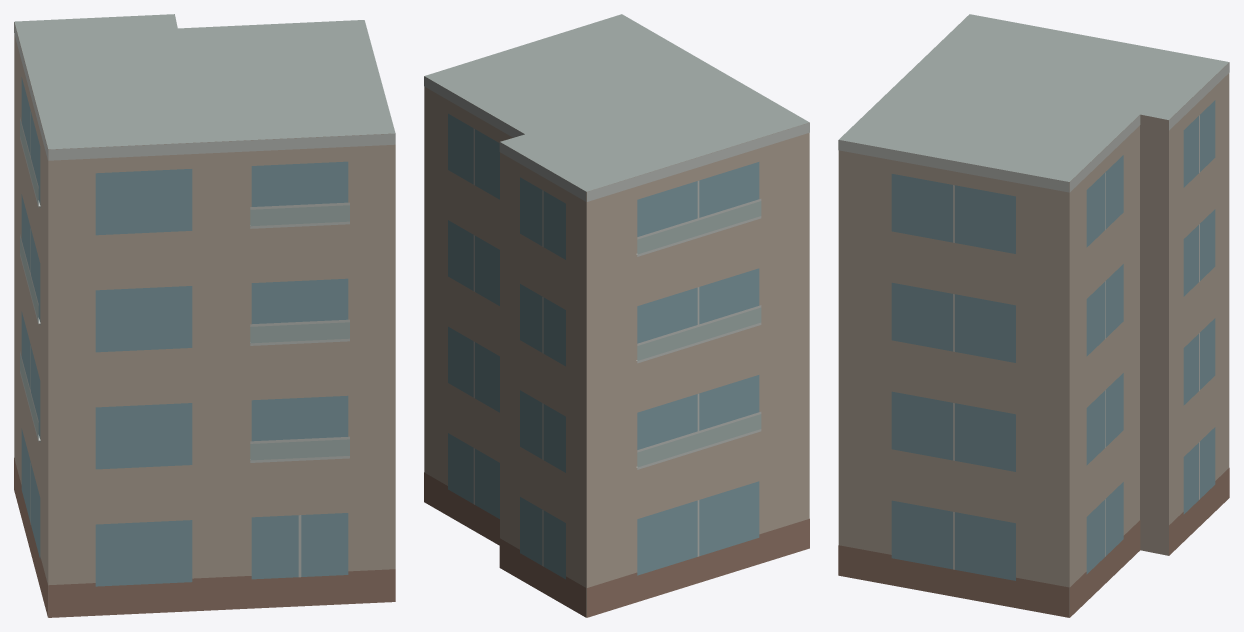
Rendered from survey-upis-32497241.glb.
3 renders of one model, left to right at view 1: azimuth 30°, elevation 25°; view 2: azimuth 150°, elevation 25°; view 3: azimuth 270°, elevation 25°, orthographic. The views are drawn at different scales.
Visible parts, largest first — view 1: survey-upis-32497241.tmp; view 2: survey-upis-32497241.tmp; view 3: survey-upis-32497241.tmp.
Boxes of the visible parts, box(x1,y1,x2,y2) form: survey-upis-32497241.tmp: box(14, 14, 395, 617); survey-upis-32497241.tmp: box(424, 14, 809, 617); survey-upis-32497241.tmp: box(838, 14, 1229, 617).
Size of the model in its own units: 8.36 by 10.1 by 8.22.
